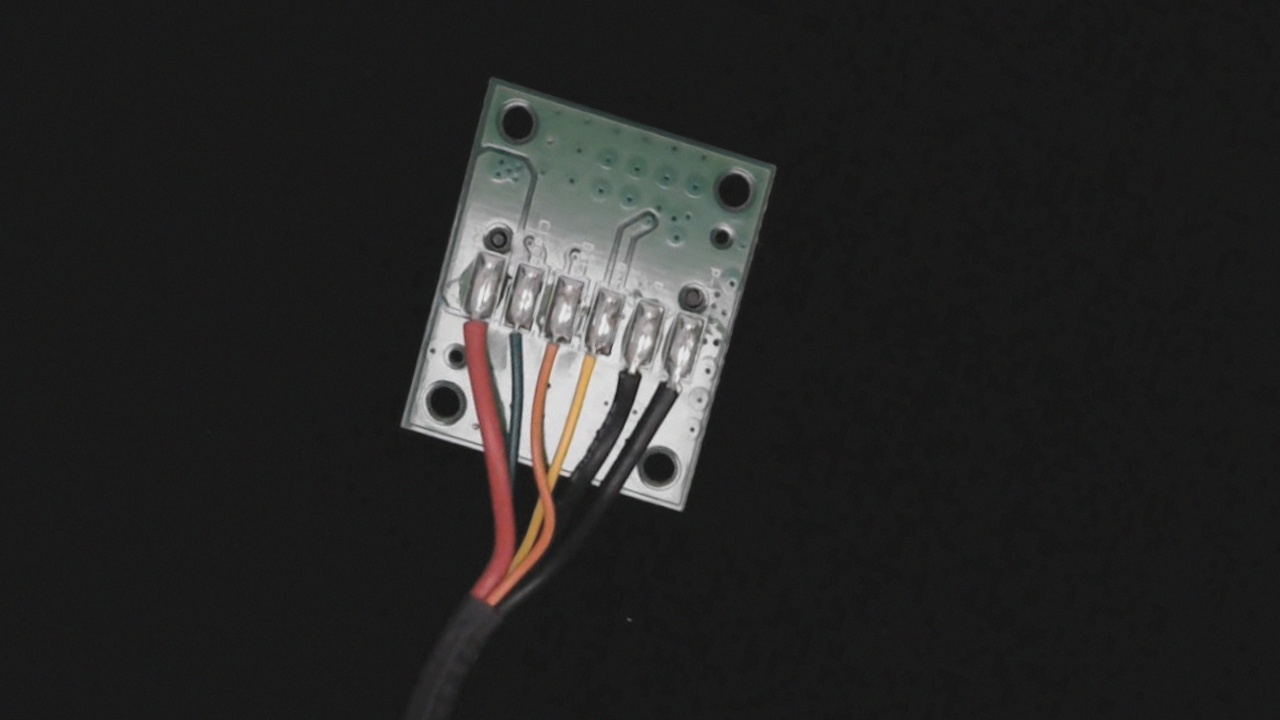Black: (598, 338, 659, 427)
Black1: (645, 349, 702, 431)
Green: (487, 299, 539, 372)
Orange: (523, 316, 578, 400)
Red: (442, 289, 502, 376)
Yellow: (560, 327, 622, 417)
